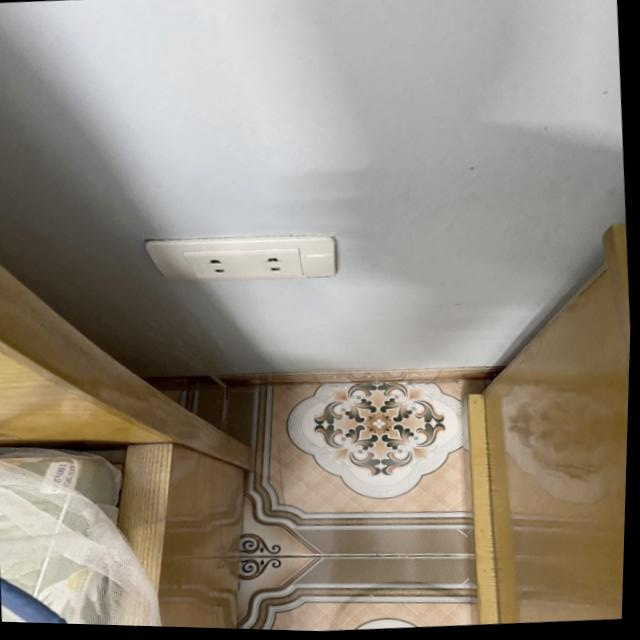outlet: (144, 226, 341, 290)
